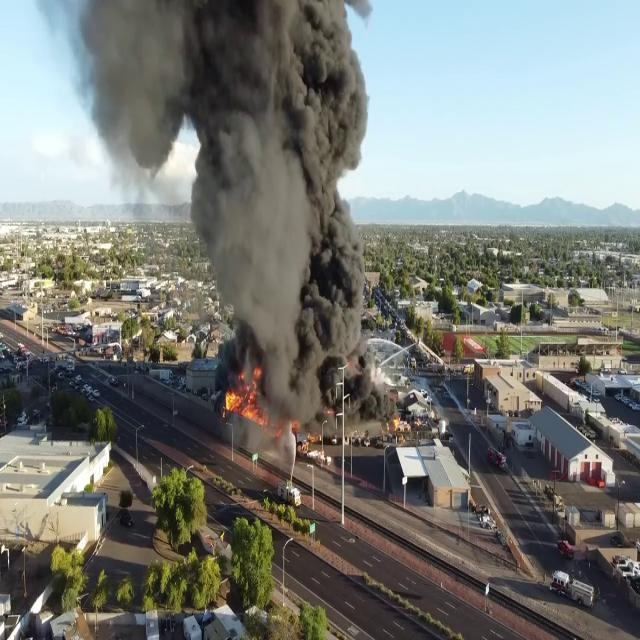Smoke: (68, 1, 390, 448), (220, 364, 266, 432)
